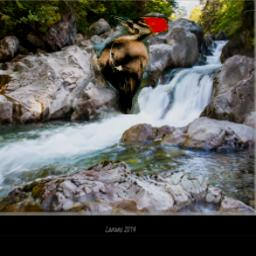Woodpecker: (89, 13, 168, 114)
